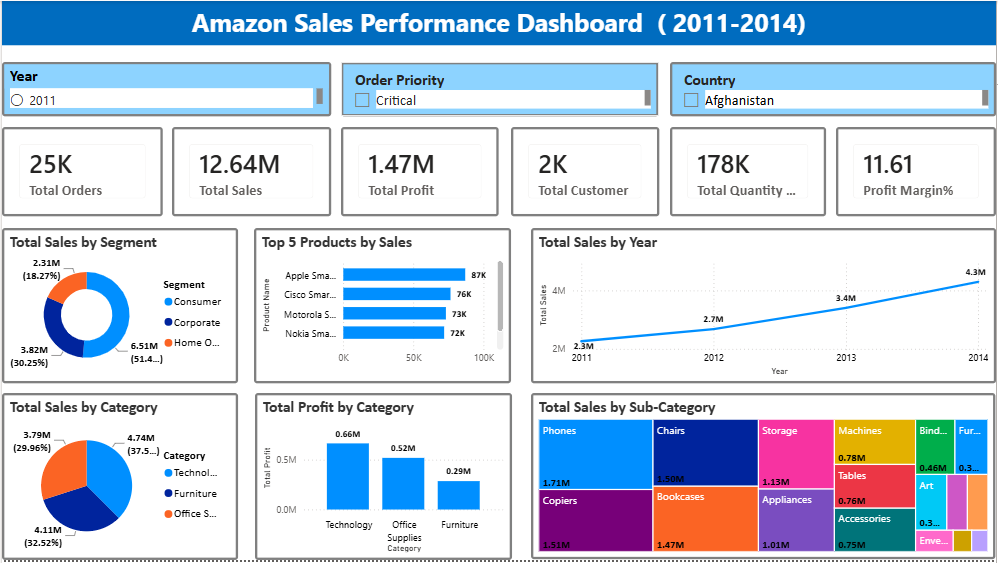

The page's visual inventory and layout, read from the dashboard file:
{"tool":"powerbi","page":{"name":"Page 1","canvas":[1280,720],"ordinal":0},"visuals":[{"type":"pieChart","fields":{"Category":["Orders.Category"],"Y":["Orders.Total Sales"]},"box":[0,504.8,303.9,215.1],"z":0},{"type":"donutChart","fields":{"Y":["Orders.Total Sales"],"Category":["Orders.Segment"]},"box":[0,292.3,303.9,199.6],"z":1000},{"type":"columnChart","fields":{"Category":["Orders.Category"],"Y":["Orders.Total Profit"]},"box":[325.8,504.8,330.9,215.1],"z":2000},{"type":"lineChart","fields":{"Y":["Orders.Total Sales"],"Category":["Orders.Order Date.Variation.Date Hierarchy.Year"]},"box":[681.2,292.3,598.8,199.6],"z":3000},{"type":"clusteredBarChart","title":"Top 5 Products by Sales","fields":{"Category":["Orders.Product Name"],"Y":["Sum(Orders.Sales)"]},"box":[324.5,292.3,330.9,199.6],"z":4000},{"type":"treemap","fields":{"Values":["Orders.Total Sales"],"Group":["Orders.Sub-Category"]},"box":[681.7,505.4,598.3,214.1],"z":5000},{"type":"cardVisual","fields":{"Data":["Orders.Total Orders"]},"box":[0,162.3,207.3,114.6],"z":6000},{"type":"cardVisual","fields":{"Data":["Orders.Total Sales"]},"box":[218.9,162.3,204.7,114.6],"z":7000},{"type":"cardVisual","fields":{"Data":["Orders.Total Profit"]},"box":[436.5,162.3,203.5,114.6],"z":8000},{"type":"cardVisual","fields":{"Data":["Orders.Total Customer"]},"box":[655.5,162.3,190.6,114.6],"z":9000},{"type":"cardVisual","fields":{"Data":["Orders.Total Quantity sold"]},"box":[860.2,162.3,200.9,114.6],"z":10000},{"type":"cardVisual","fields":{"Data":["Orders.Profit Margin%"]},"box":[1074,162.3,206,114.6],"z":11000},{"type":"textbox","box":[0,0,1280,56.7],"z":12000},{"type":"listSlicer","fields":{"Values":["Orders.Order Date.Variation.Date Hierarchy.Year"]},"box":[0,78.6,423.7,69.5],"z":13000},{"type":"slicer","fields":{"Values":["Orders.Country"]},"box":[860.2,78.6,419.8,69.5],"z":13001},{"type":"slicer","fields":{"Values":["Orders.Order Priority"]},"box":[436.5,78.6,409.5,70],"z":13002}]}

Visuals, with their boxes in screenshot pixels (x1, y1, x2, y2), scaled from the page's 1280x720 canvas onto the 998x563 screenshot:
pieChart - Orders.Category x Orders.Total Sales: l=0, t=395, r=237, b=562
donutChart - Orders.Total Sales x Orders.Segment: l=0, t=229, r=237, b=385
columnChart - Orders.Category x Orders.Total Profit: l=254, t=395, r=512, b=562
lineChart - Orders.Total Sales x Orders.Order Date.Variation.Date Hierarchy.Year: l=531, t=229, r=997, b=385
"Top 5 Products by Sales" clusteredBarChart: l=253, t=229, r=511, b=385
treemap - Orders.Total Sales x Orders.Sub-Category: l=532, t=395, r=997, b=562
cardVisual - Orders.Total Orders: l=0, t=127, r=162, b=217
cardVisual - Orders.Total Sales: l=171, t=127, r=330, b=217
cardVisual - Orders.Total Profit: l=340, t=127, r=499, b=217
cardVisual - Orders.Total Customer: l=511, t=127, r=660, b=217
cardVisual - Orders.Total Quantity sold: l=671, t=127, r=827, b=217
cardVisual - Orders.Profit Margin%: l=837, t=127, r=997, b=217
textbox: l=0, t=0, r=997, b=44
listSlicer - Orders.Order Date.Variation.Date Hierarchy.Year: l=0, t=61, r=330, b=116
slicer - Orders.Country: l=671, t=61, r=997, b=116
slicer - Orders.Order Priority: l=340, t=61, r=660, b=116
